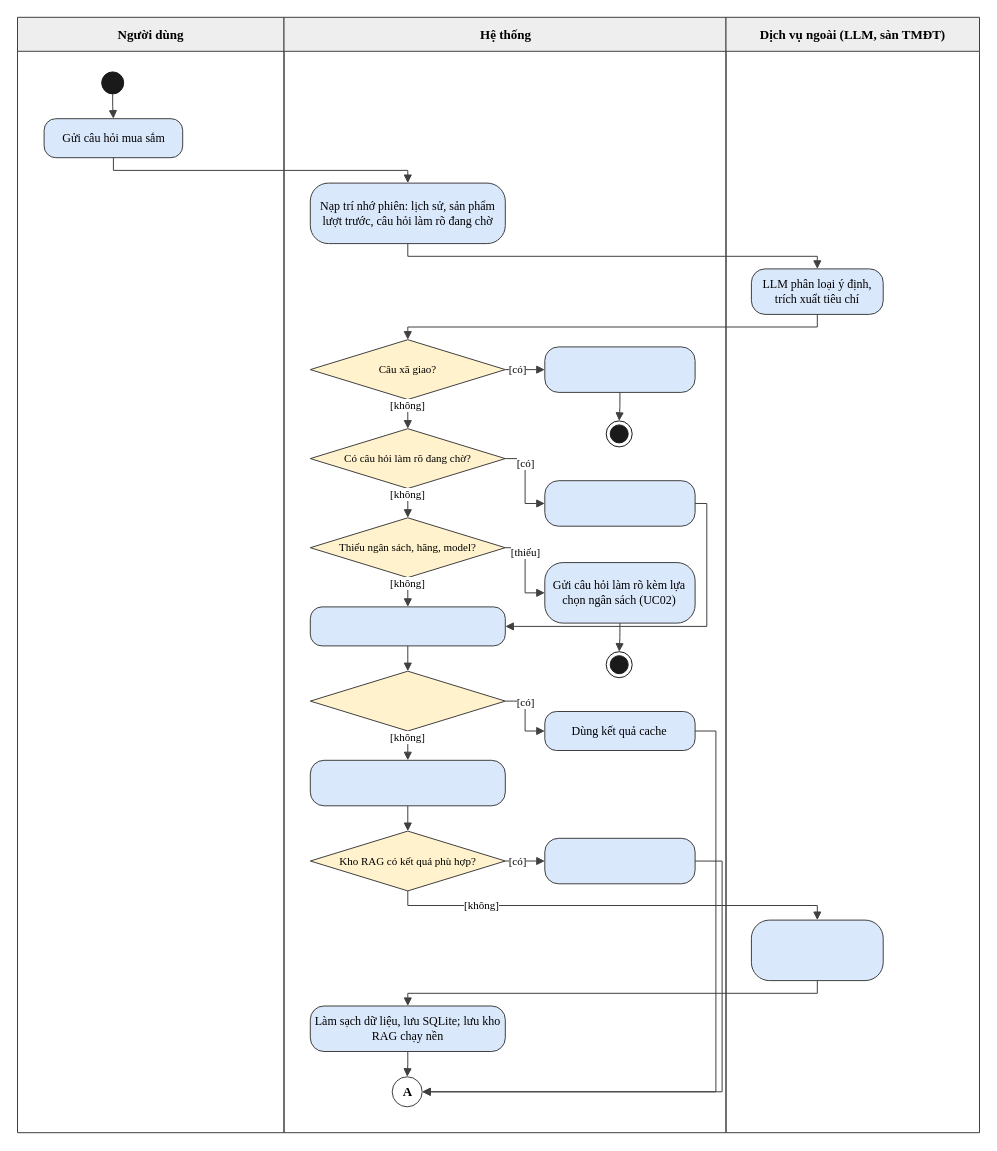
Some shapes in this 997 by 1151 pixel diagram are drawn without their labels. The shapes that lost their labels are listed below. From the top down, each one's centre as x and y in pixels, then its label:
[619,369]: Trả lời ngay, không tìm kiếm (UC18)
[619,503]: Gộp câu trả lời vào tiêu chí đã lưu
[407,626]: Tìm trong cache SQLite
[407,700]: Có kết quả trong cache?
[407,782]: Tìm kho RAG (ChromaDB), đồng thời cào TGDĐ, ĐMX, Tiki
[619,860]: Hủy phần cào, dùng kết quả kho
[816,950]: Các sàn trả về sản phẩm; LLM lọc ngữ nghĩa, loại phụ kiện
